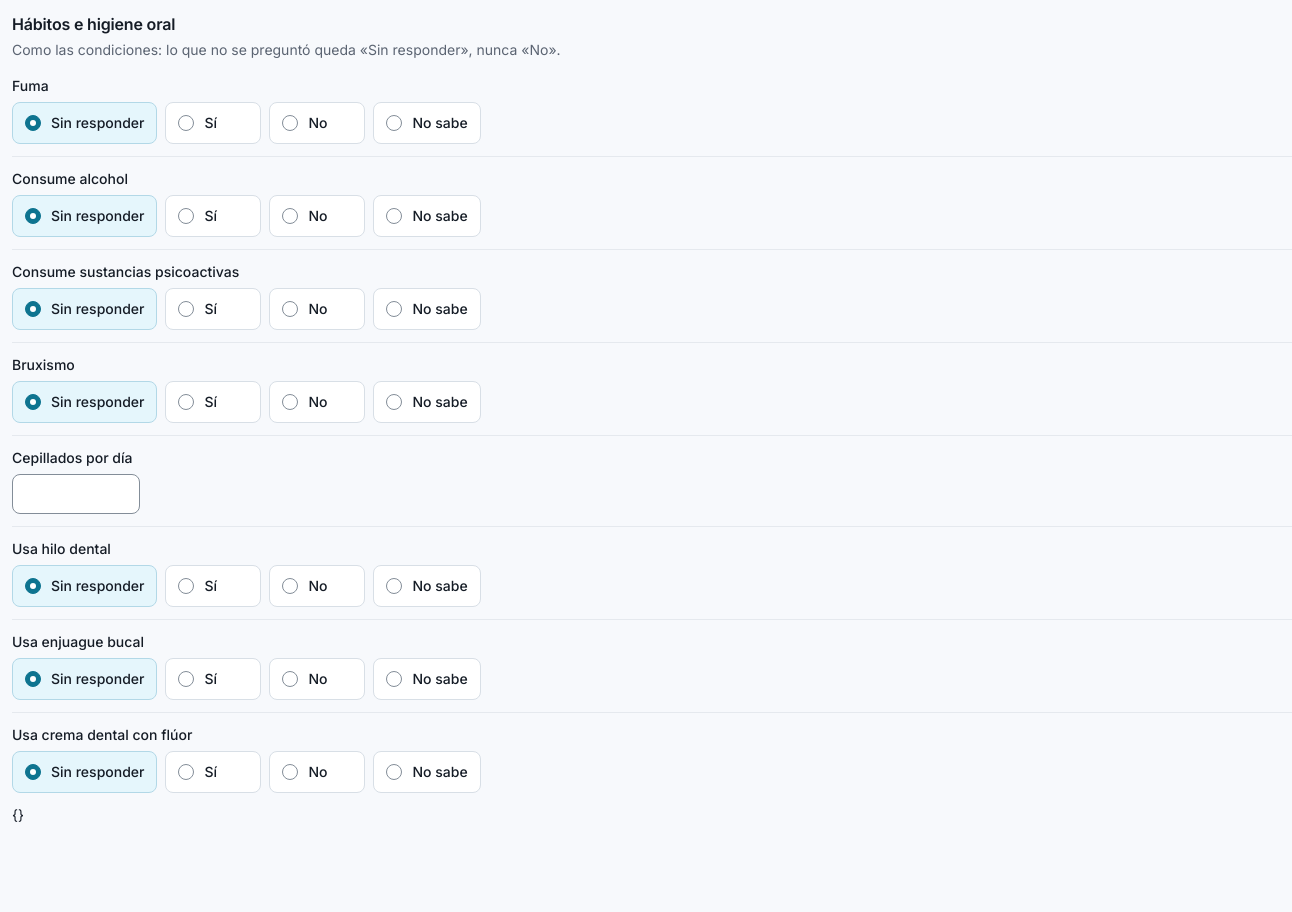
Test case: «No» solo se guarda si se elige, y «Sin responder» lo quita
Click the radio button labelled "No" below "Bruxismo" at (290, 402), box [282,394,298,410]
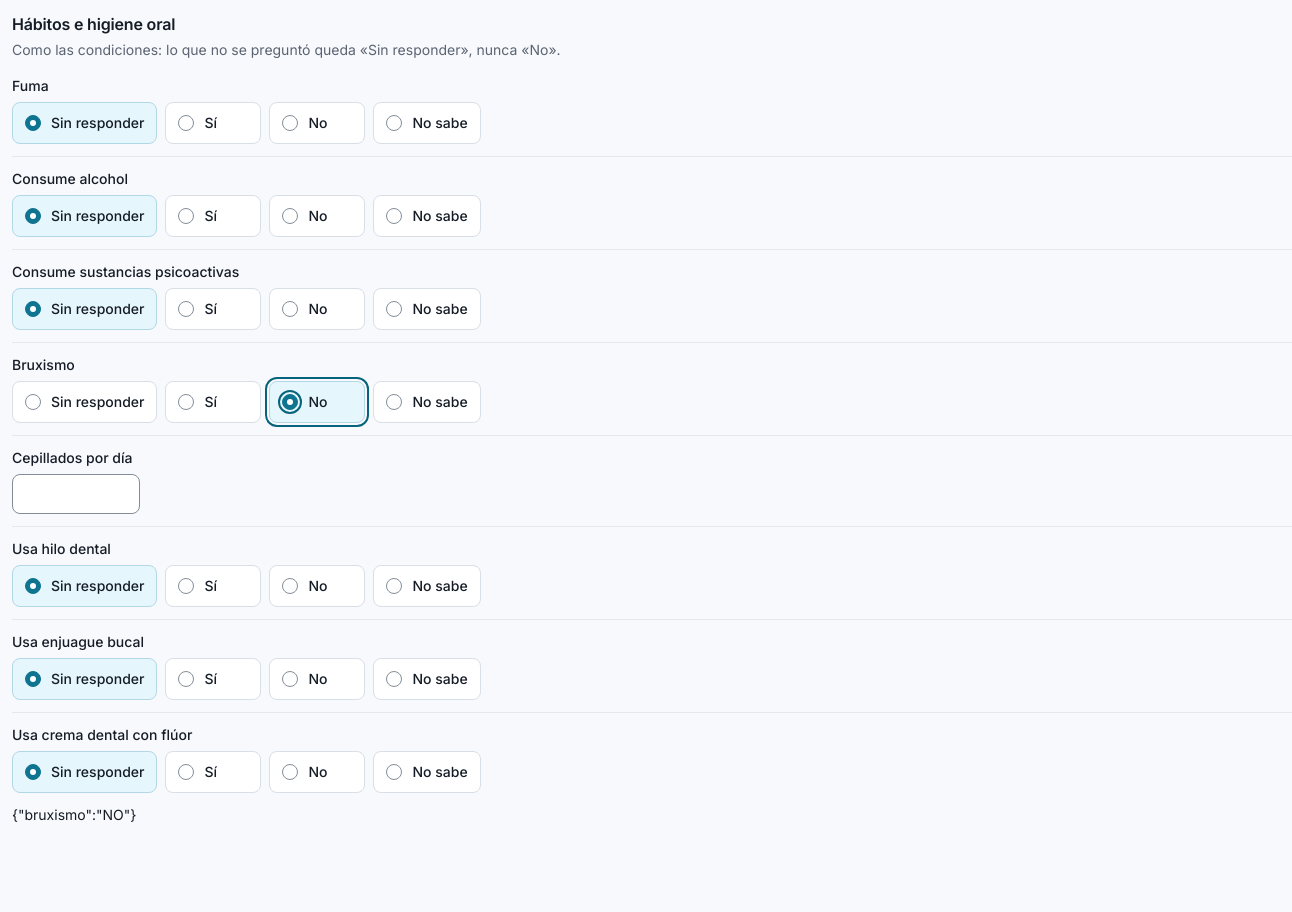
Click the radio button labelled "Sí" below "Usa hilo dental" at (186, 586), box [178,578,194,594]
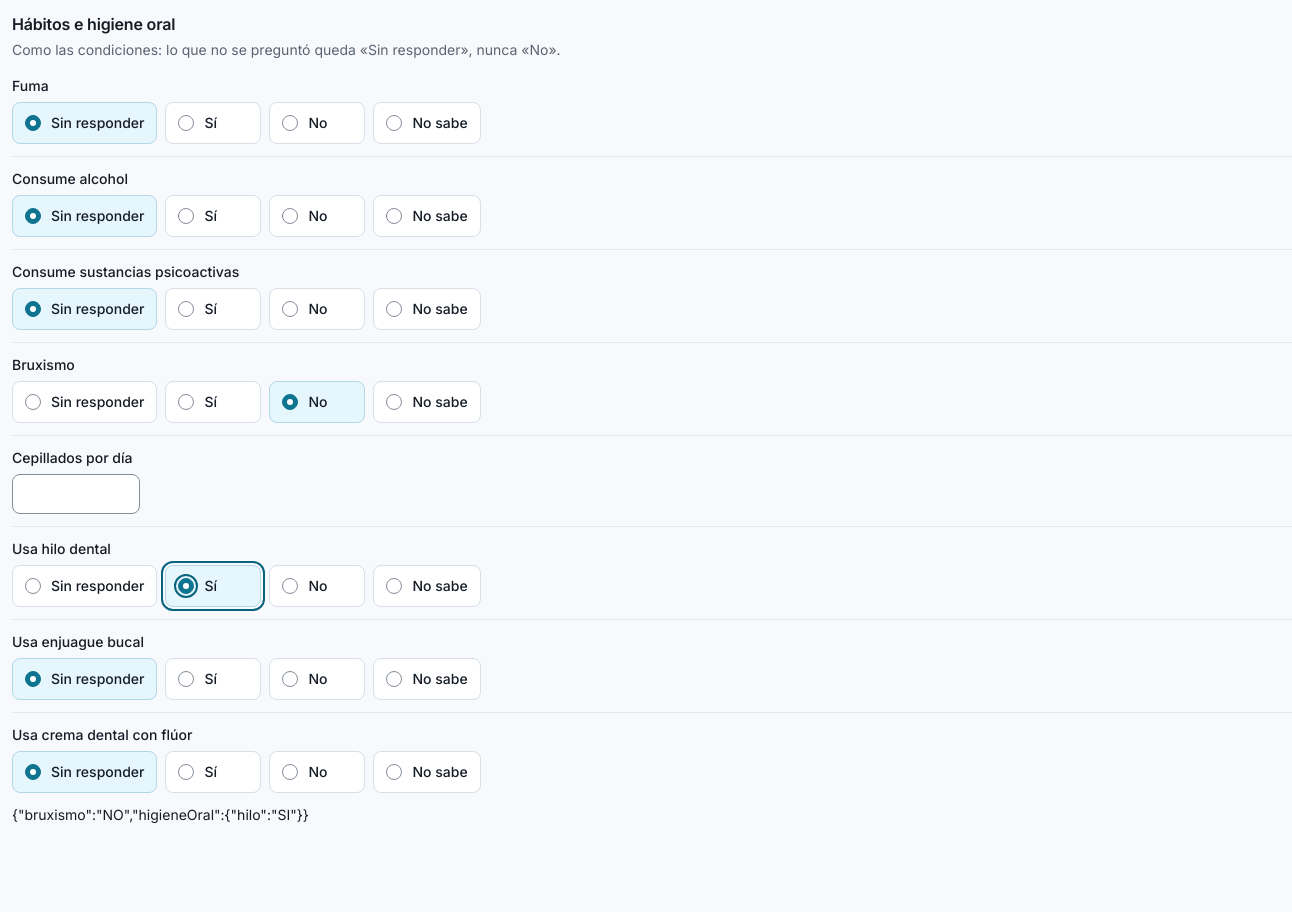
Click the 4th radio button labelled "Sin responder" at (33, 402), box [25,394,41,410]
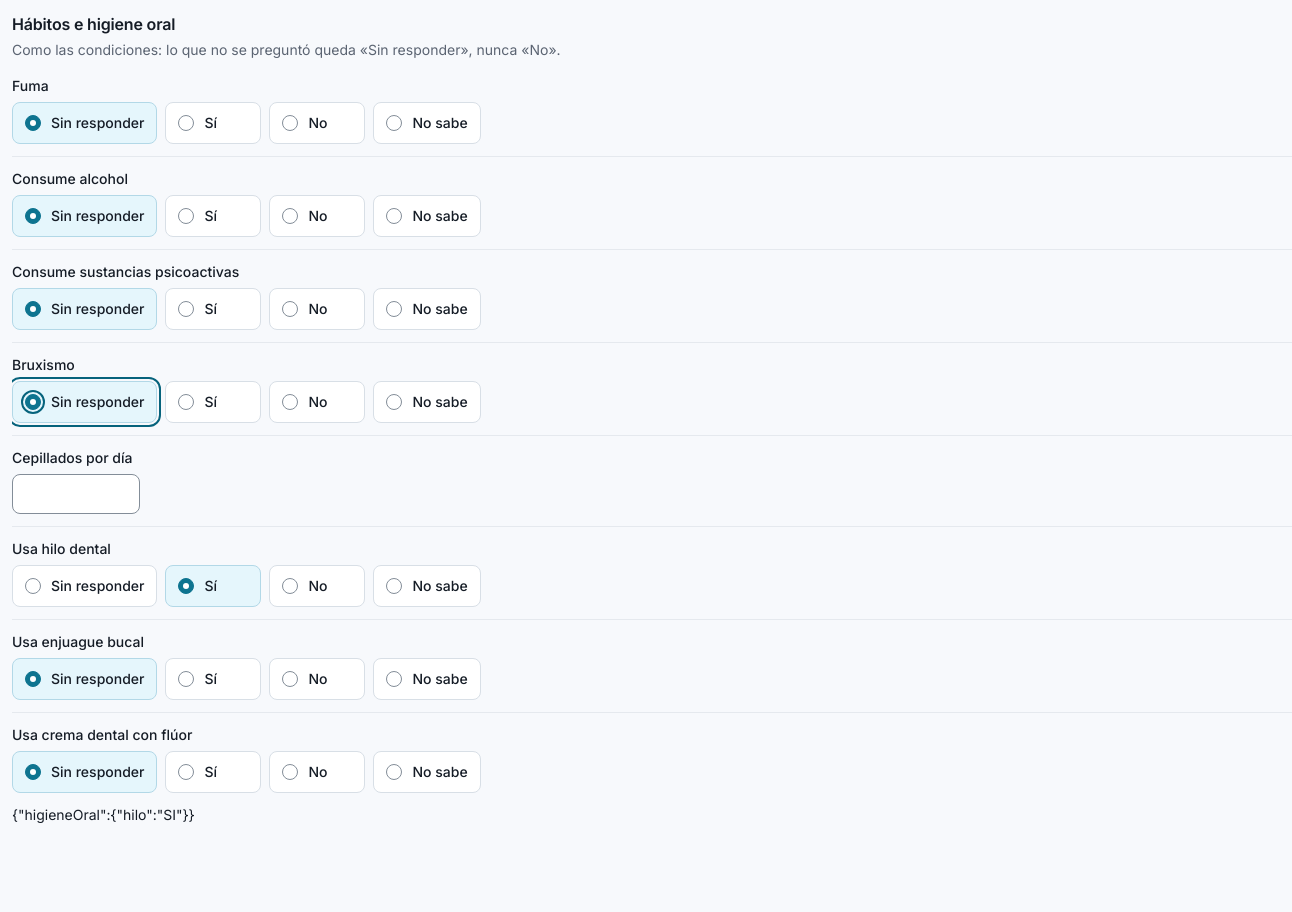
Click the radio button labelled "Sin responder" below "Usa hilo dental" at (33, 586), box [25,578,41,594]
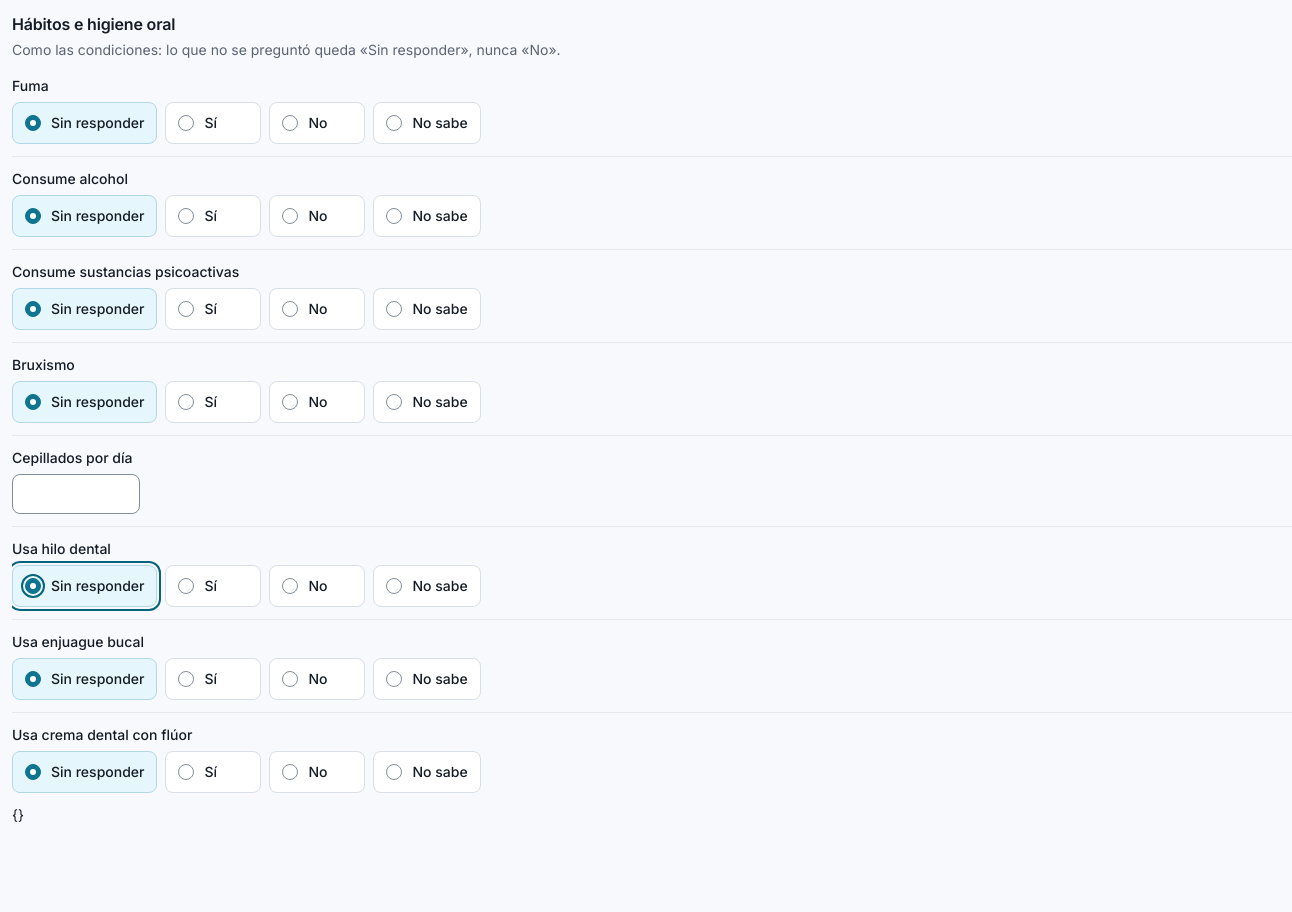
Result: the text with test id "json" reads "{}" at [12,806,24,823]
